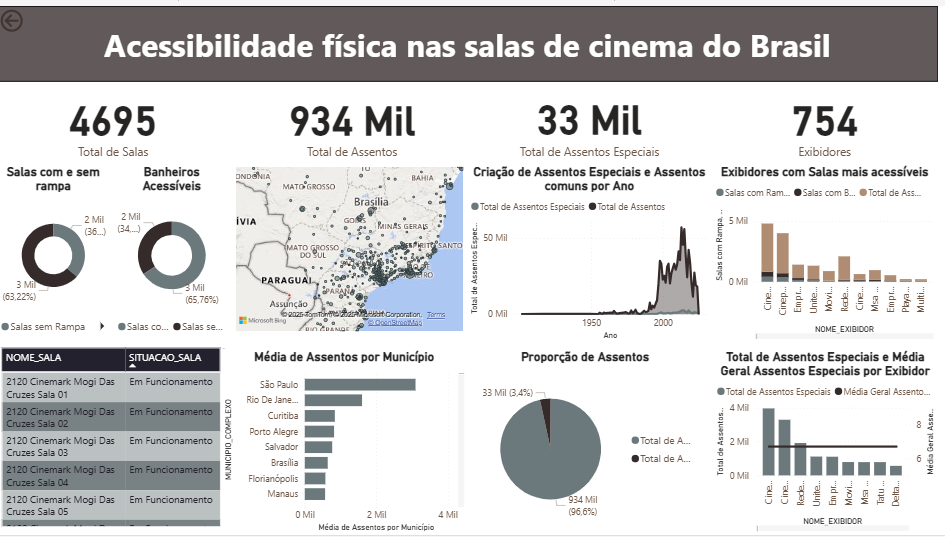

This screenshot's page, from the dashboard's own definition file:
{"tool":"powerbi","page":{"name":"Página 1","canvas":[1280,720],"ordinal":0},"visuals":[{"type":"card","fields":{"Values":["Ancine.Total de Assentos Especiais"]},"box":[640,103.3,333.3,111.7],"z":1000},{"type":"donutChart","title":"Salas com e sem rampa","fields":{"Y":["Ancine.Salas sem Rampa","Ancine.Salas com Rampa"]},"box":[0,215,153.3,240],"z":2000},{"type":"donutChart","title":"Banheiros Acessíveis","fields":{"Y":["Ancine.Salas com Banheiro Acessível","Ancine.Salas sem Banheiro Acessível"]},"box":[158.3,215,160,240],"z":3000},{"type":"actionButton","box":[0,0,100,40],"z":4000},{"type":"map","title":"Total de Assentos Especiais por Município","fields":{"Category":["Ancine.MUNICIPIO_COMPLEXO"],"Size":["Ancine.Total de Assentos Especiais"]},"box":[320,176,320,272],"z":5000},{"type":"textbox","box":[0,0,1280.6,102.9],"z":6000},{"type":"columnChart","title":"Exibidores com Salas mais acessíveis","fields":{"Category":["Ancine.NOME_EXIBIDOR"],"Y":["Ancine.Salas com Rampa","Ancine.Salas com Banheiro Acessível","Ancine.Total de Assentos Especiais"]},"box":[973.3,215,306.7,243.3],"z":7000},{"type":"areaChart","title":"Criação de Assentos Especiais e Assentos comuns por Ano","fields":{"Category":["Ancine.DATA_INICIO_FUNCIONAMENTO_SALA.Variation.Hierarquia de datas.Ano"],"Y":["Ancine.Total de Assentos Especiais","Ancine.Total de Assentos"]},"box":[640,215,333.3,243.3],"z":8000},{"type":"card","fields":{"Values":["Ancine.Total de Salas"]},"box":[1.7,105,313.3,110],"z":9000},{"type":"card","fields":{"Values":["Ancine.Total de Exibidores Únicos"]},"box":[973.3,105,306.7,110],"z":10000},{"type":"pieChart","title":"Proporção de Assentos","fields":{"Y":["Ancine.Total de Assentos","Ancine.Total de Assentos Especiais"]},"box":[640,466.7,321.7,253.3],"z":11000},{"type":"tableEx","fields":{"Values":["Ancine.NOME_SALA","Ancine.SITUACAO_SALA"]},"box":[0,460,318,253],"z":12000},{"type":"lineStackedColumnComboChart","title":"Total de Assentos Especiais e Média Geral Assentos Especiais por Exibidor","fields":{"Y":["Ancine.Total de Assentos Especiais"],"Y2":["Ancine.Média Geral Assentos Especiais"],"Category":["Ancine.NOME_EXIBIDOR"]},"box":[974.1,466.4,305.9,253],"z":13000},{"type":"clusteredBarChart","title":"Média de Assentos por Município","fields":{"Category":["Ancine.MUNICIPIO_COMPLEXO"],"Y":["Ancine.Média de Assentos por Município"]},"box":[304.3,466.4,335.7,253],"z":15000},{"type":"card","fields":{"Values":["Ancine.Total de Assentos"]},"box":[326.7,105,313.3,110],"z":15001}]}

Visuals, with their boxes in screenshot pixels (x1, y1, x2, y2), scaled from the page's 1280x720 canvas onto the 945x537 screenshot:
card - Ancine.Total de Assentos Especiais: box=[472, 77, 719, 160]
"Salas com e sem rampa" donutChart: box=[0, 160, 113, 339]
"Banheiros Acessíveis" donutChart: box=[117, 160, 235, 339]
actionButton: box=[0, 0, 74, 30]
"Total de Assentos Especiais por Município" map: box=[236, 131, 472, 334]
textbox: box=[0, 0, 944, 77]
"Exibidores com Salas mais acessíveis" columnChart: box=[719, 160, 944, 342]
"Criação de Assentos Especiais e Assentos comuns por Ano" areaChart: box=[472, 160, 719, 342]
card - Ancine.Total de Salas: box=[1, 78, 233, 160]
card - Ancine.Total de Exibidores Únicos: box=[719, 78, 944, 160]
"Proporção de Assentos" pieChart: box=[472, 348, 710, 536]
tableEx - Ancine.NOME_SALA x Ancine.SITUACAO_SALA: box=[0, 343, 235, 532]
"Total de Assentos Especiais e Média Geral Assentos Especiais por Exibidor" lineStackedColumnComboChart: box=[719, 348, 944, 536]
"Média de Assentos por Município" clusteredBarChart: box=[225, 348, 472, 536]
card - Ancine.Total de Assentos: box=[241, 78, 472, 160]
